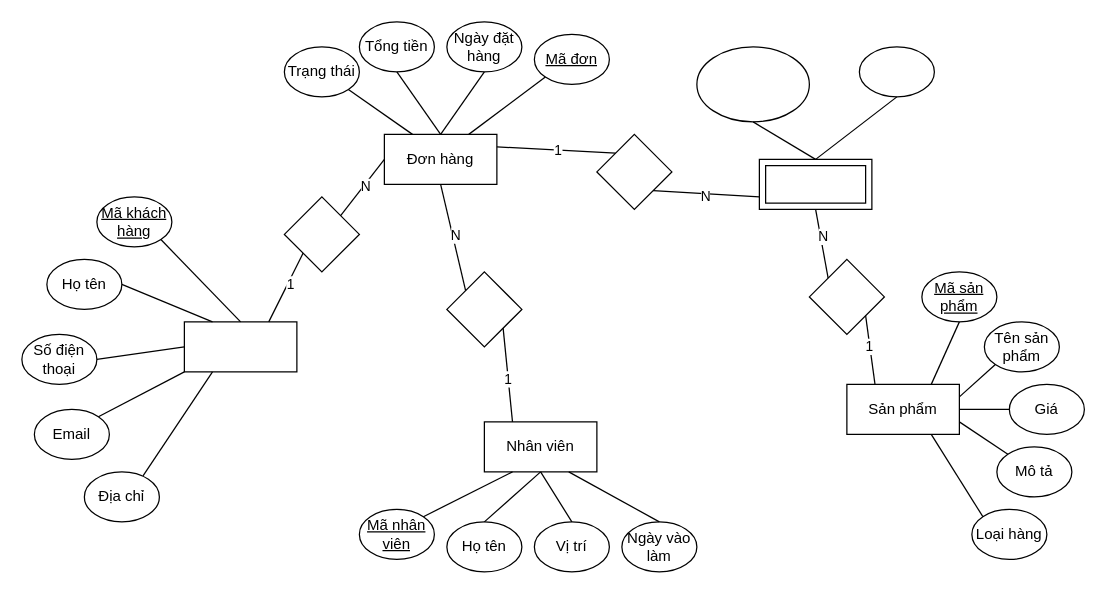
Some shapes in this 1106 by 594 pixel diagram are drawn without their labels. The box of each missing label's shape, as (x1, y1, x2, y2) in pixels:
Chi tiết đơn hàng: (764, 164, 866, 203)
Chứa: (596, 133, 672, 209)
Có: (808, 258, 884, 334)
Khách hàng: (183, 321, 297, 372)
Số lượng: (858, 46, 934, 97)
Xử lý: (446, 271, 522, 347)
Đơn giá tại thời điểm mua: (696, 46, 809, 122)
Đặt: (283, 196, 359, 272)
